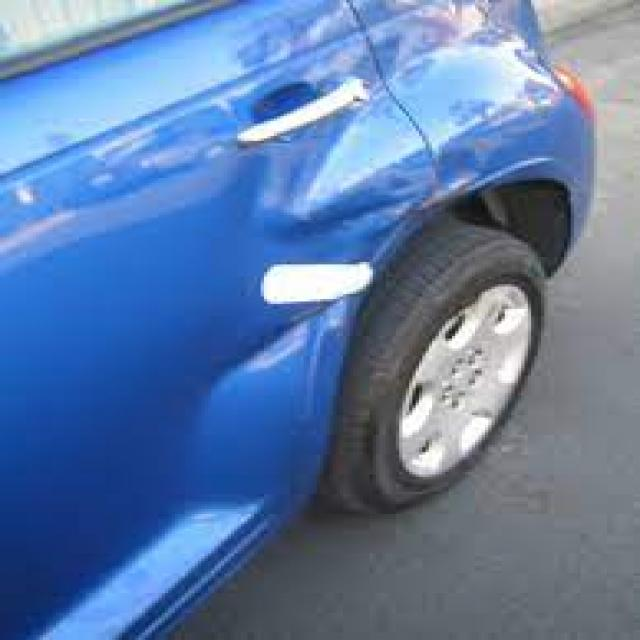minor: (225, 55, 371, 540)
